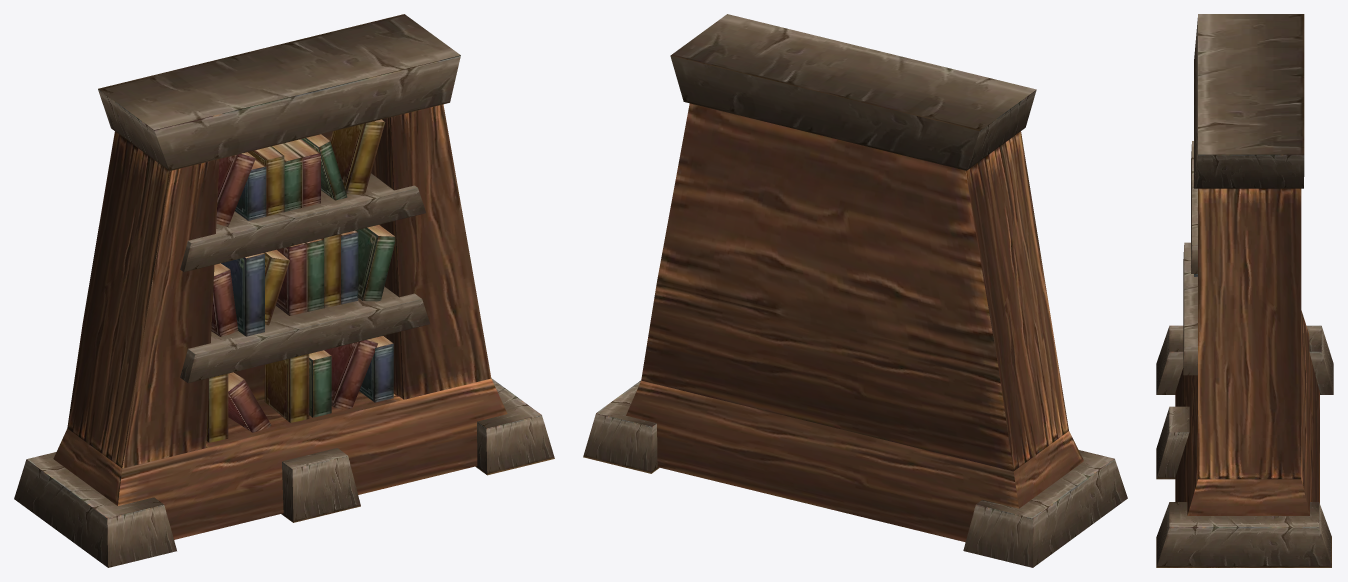
3 renders of one model, left to right at view 1: azimuth 30°, elevation 25°; view 2: azimuth 150°, elevation 25°; view 3: azimuth 270°, elevation 25°, orthographic. The views are drawn at different scales.
Size of the model in its own units: 5.25 by 4.55 by 1.92.
Materials: 1 (1 with a texture image).
